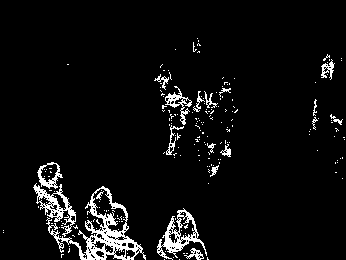person: (33, 163, 84, 255), (93, 191, 142, 260), (163, 212, 210, 260), (163, 89, 189, 156)
